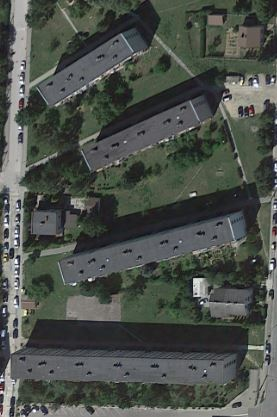block of flats: (56, 207, 251, 292), (75, 91, 216, 175), (34, 24, 152, 111), (7, 346, 244, 386)
